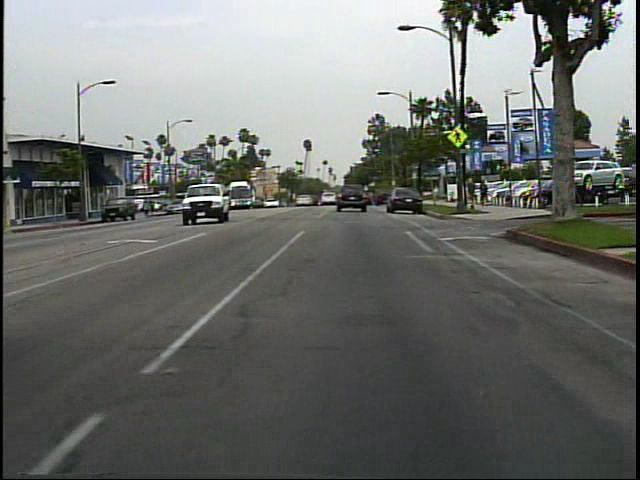person: (554, 175, 578, 223)
